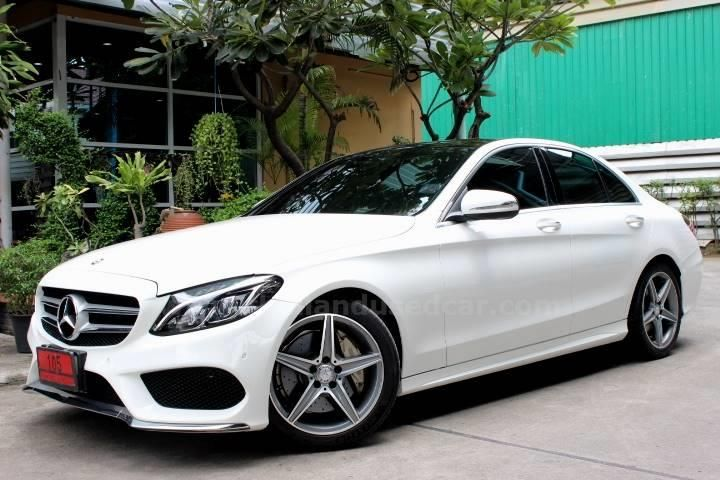sedan: (23, 132, 705, 448)
